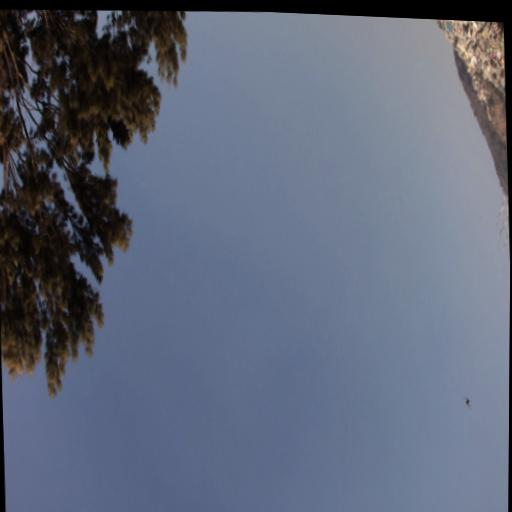drones: (461, 392, 473, 410)
